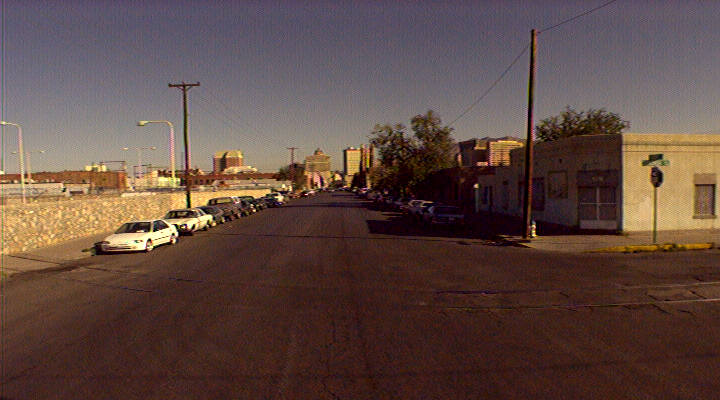Ramp: (523, 228, 619, 257)
